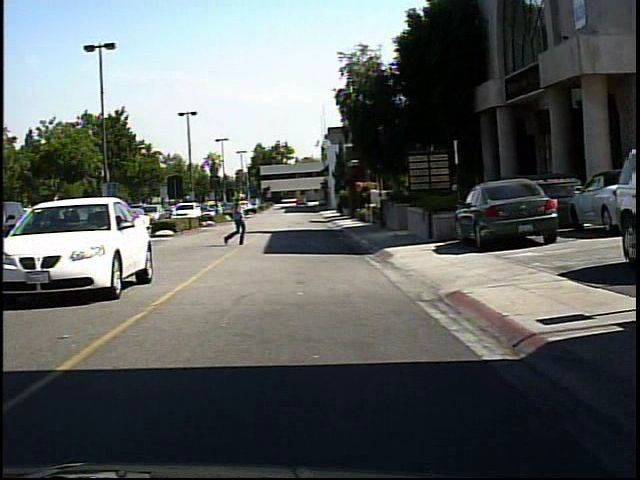person: (220, 187, 251, 248)
